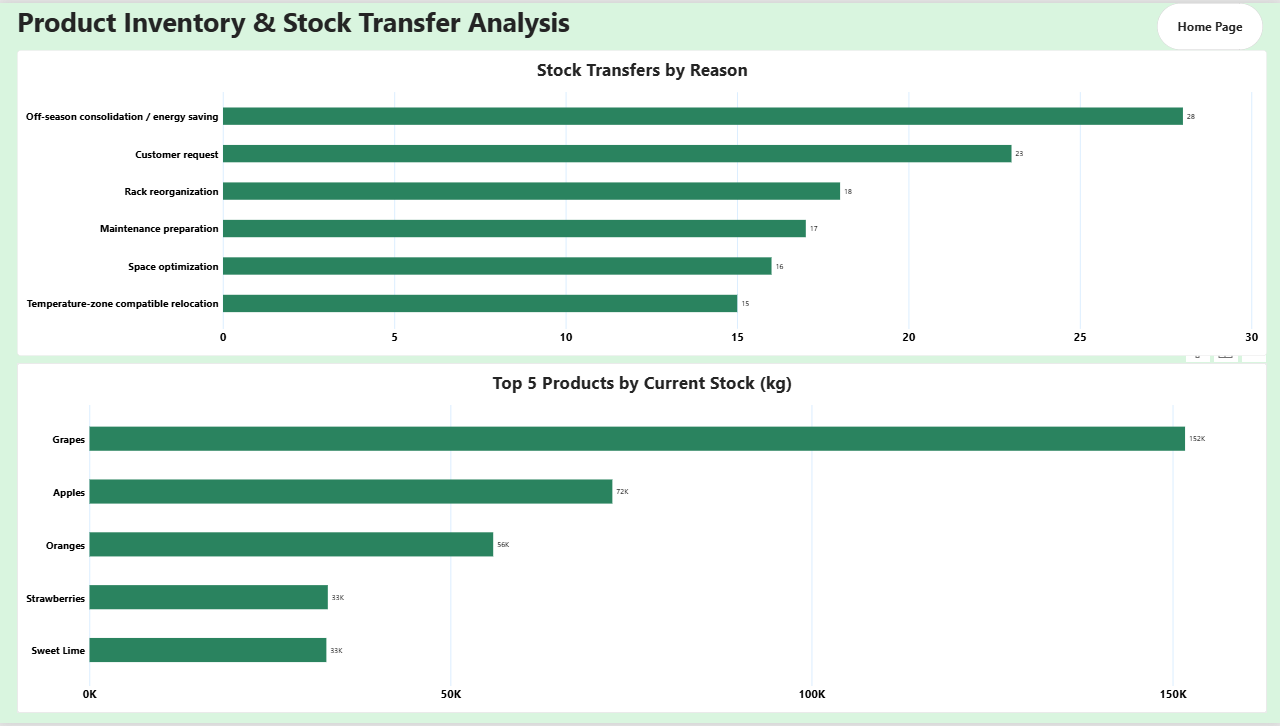

This screenshot's page, from the dashboard's own definition file:
{"tool":"powerbi","page":{"name":"Product Inventory & Stock Transfer Analysis","canvas":[2560,1440],"ordinal":3},"visuals":[{"type":"clusteredBarChart","title":"Top 5 Products by Current Stock (kg)","fields":{"Category":["T_Inventory_Snapshot.Fruit_Name"],"Y":["Sum(T_Inventory_Snapshot.Current_Qty_kg)"]},"box":[34,720,2500,700],"z":0},{"type":"clusteredBarChart","title":"Stock Transfers by Reason","fields":{"Category":["T_Stock_Transfers.Reason"],"Y":["Count(T_Stock_Transfers.Transfer_ID)"]},"box":[34,94,2500,612],"z":1000},{"type":"textbox","box":[34,0,1288,78],"z":2000},{"type":"pageNavigator","box":[2314,0,212,94],"z":3000}]}

Visuals, with their boxes in screenshot pixels (x1, y1, x2, y2), scaled from the page's 2560x1440 canvas onto the 1280x726 screenshot:
"Top 5 Products by Current Stock (kg)" clusteredBarChart: box(17, 363, 1267, 716)
"Stock Transfers by Reason" clusteredBarChart: box(17, 47, 1267, 356)
textbox: box(17, 0, 661, 39)
pageNavigator: box(1157, 0, 1263, 47)
